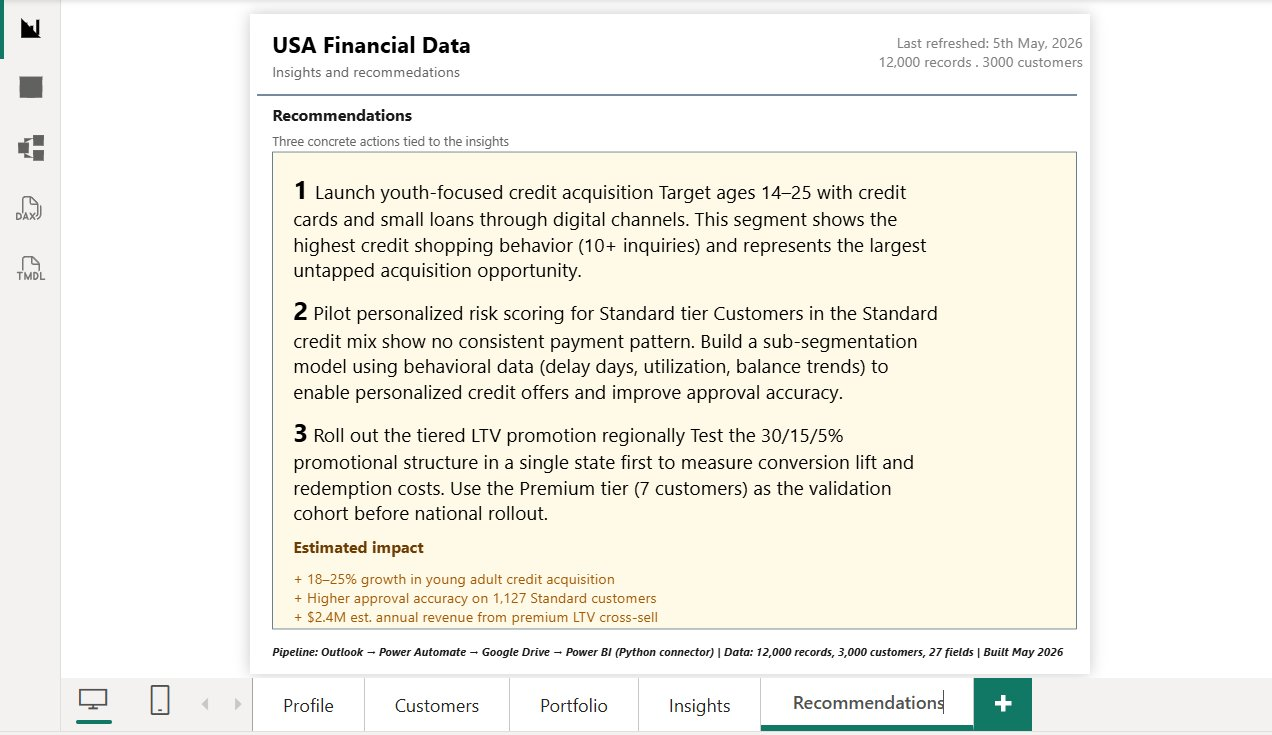

Layout of this report page (visuals, bound fields, positions):
{"tool":"powerbi","page":{"name":"Recommendations","canvas":[1400,1100],"ordinal":4},"visuals":[{"type":"group","id":"g1","title":"Group 3","box":[0,0,1400,152.5],"z":0},{"type":"textbox","box":[25,12.5,597.5,80],"z":0,"group":"g1"},{"type":"textbox","box":[25,67.5,447.5,57.5],"z":1000,"group":"g1"},{"type":"textbox","box":[25,137.5,352.5,70],"z":1000},{"type":"textbox","box":[1017.5,0,382.5,122.5],"z":2000,"group":"g1"},{"type":"textbox","box":[25,185,725,65],"z":2000},{"type":"shape","box":[0,117.5,1390,35],"z":3000,"group":"g1"},{"type":"shape","box":[25,217.5,1365,820],"z":3000},{"type":"textbox","box":[60,250,1117.5,787.5],"z":4000},{"type":"textbox","box":[25,1037.5,1365,62.5],"z":5000}]}

Visuals, with their boxes on the page's 1400x1100 design canvas (x1, y1, x2, y2). These are canvas units, not pixel positions in the 1272x735 screenshot, which may show the page scaled, cropped or inside an application window:
"Group 3" group: 0, 0, 1400, 152
textbox: 25, 12, 622, 92
textbox: 25, 68, 472, 125
textbox: 25, 138, 378, 208
textbox: 1018, 0, 1400, 122
textbox: 25, 185, 750, 250
shape: 0, 118, 1390, 152
shape: 25, 218, 1390, 1038
textbox: 60, 250, 1178, 1038
textbox: 25, 1038, 1390, 1100
